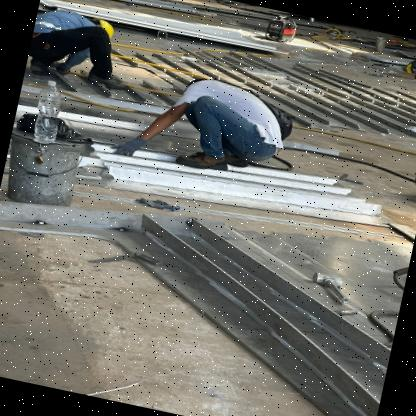bota: (176, 136, 231, 178), (88, 67, 128, 91), (222, 150, 254, 174), (27, 60, 56, 80)
